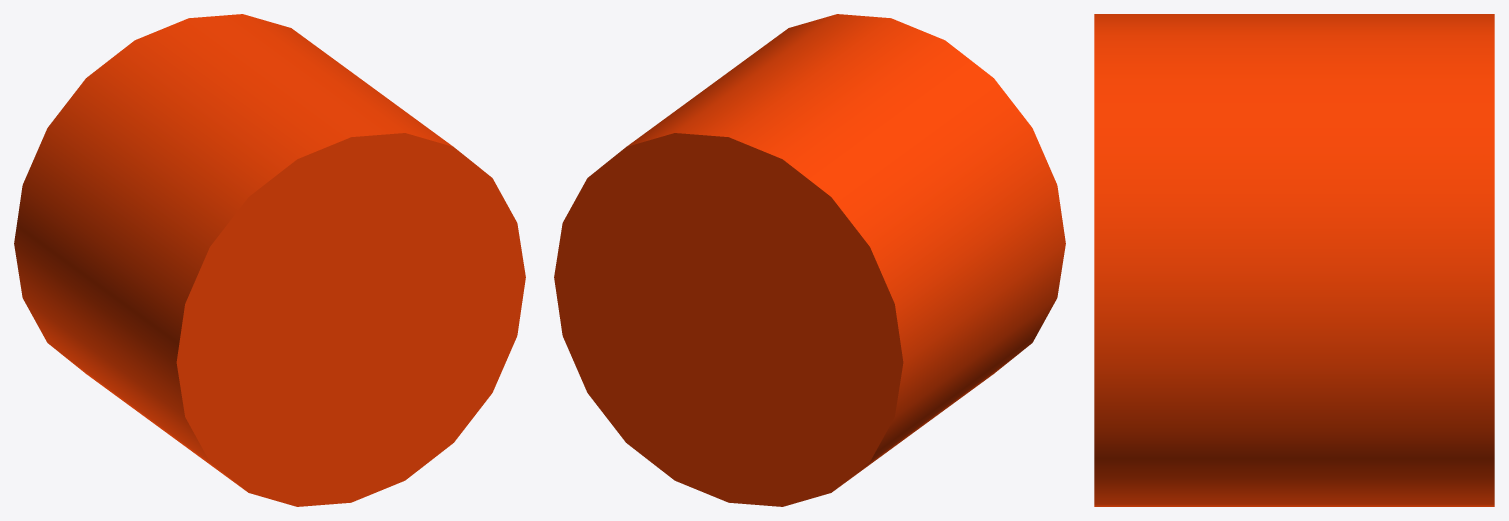
Rendered from Nervio_occipital_mayor_D.obj.
3 views of the same model, side by side, from view 1: azimuth 30°, elevation 25°; view 2: azimuth 150°, elevation 25°; view 3: azimuth 270°, elevation 25° (orthographic). The views are drawn at different scales.
Parts seen in each view (by area): view 1: polySurface32 polySurface23; view 2: polySurface32 polySurface23; view 3: polySurface32 polySurface23.
Part boxes in pixels (x1,y1,x2,y2): polySurface32 polySurface23: (14,14,525,506); polySurface32 polySurface23: (554,14,1065,506); polySurface32 polySurface23: (1094,14,1494,506).
Size of the model in its own units: 0.0375 by 0.0375 by 0.0302.
